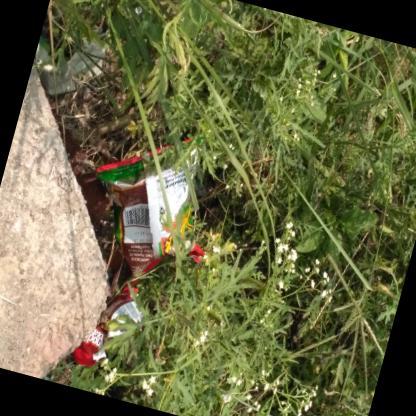Plastic: (96, 135, 204, 296), (70, 287, 141, 366), (33, 28, 105, 95)
